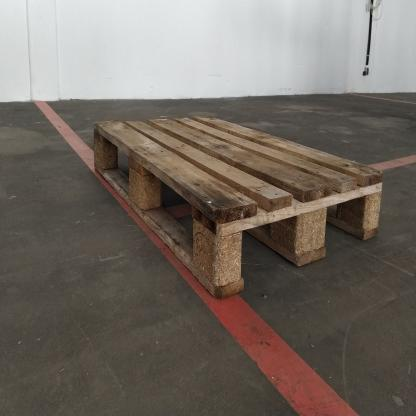BoxFace: (90, 110, 386, 303)
